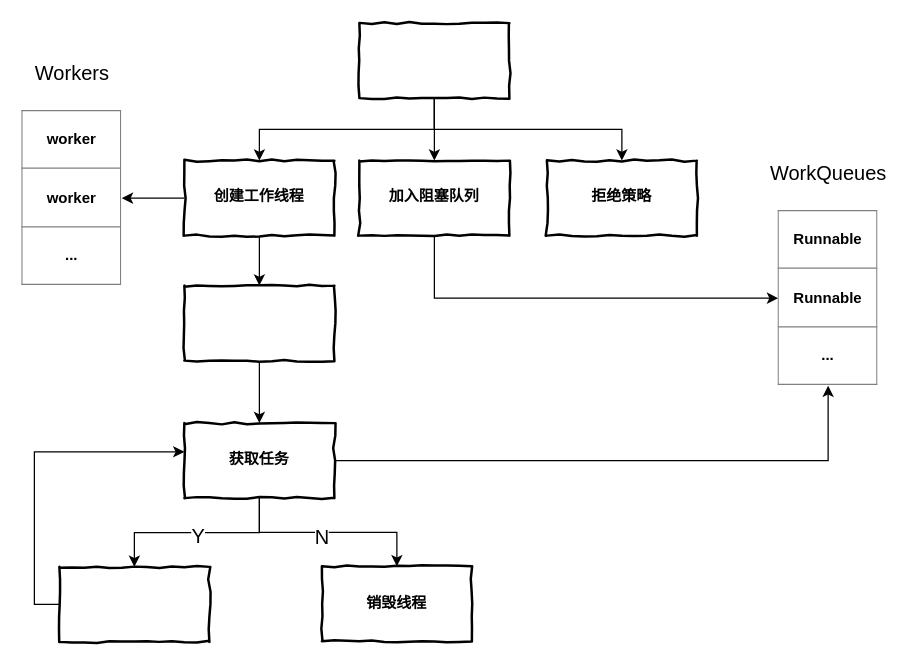
This 918x664 diagram has some shape labels left out. The centre of each missing label's shape, as x and y in pixels:
启动工作线程 start（）: the point at 258,322
执行任务 run（）: the point at 134,603
提交任务 execute（）: the point at 434,60
